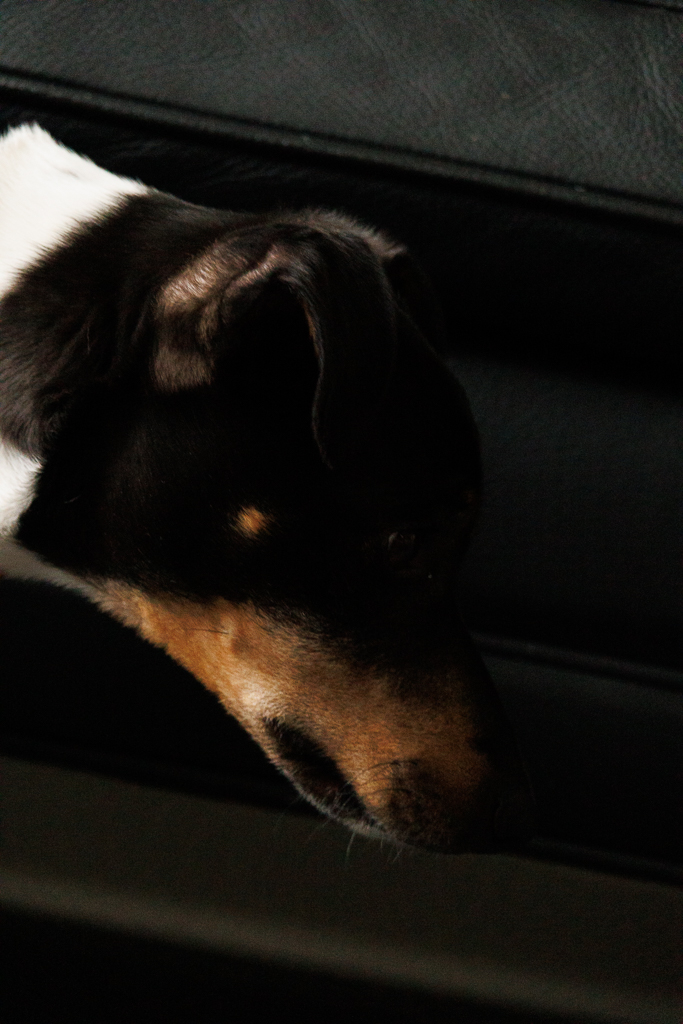Dog: (0, 107, 576, 872)
